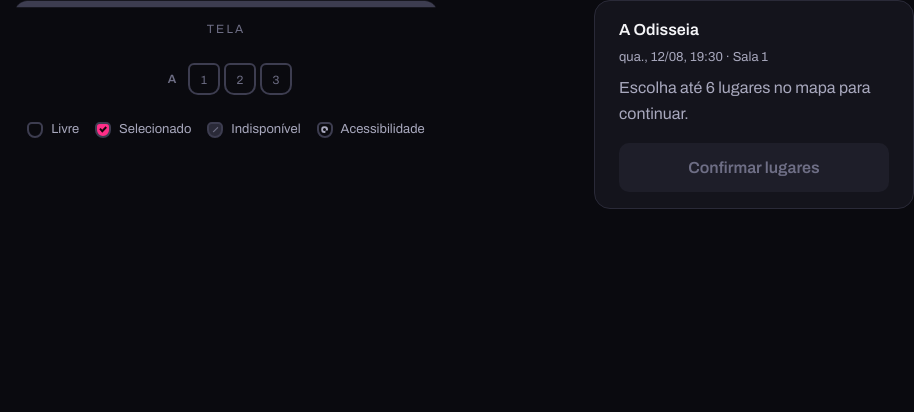
Scenario: seleção › mostra quantidade e total da seleção
Click the button named "Fileira": (204, 79) top-left (188, 63), bottom-right (220, 95)
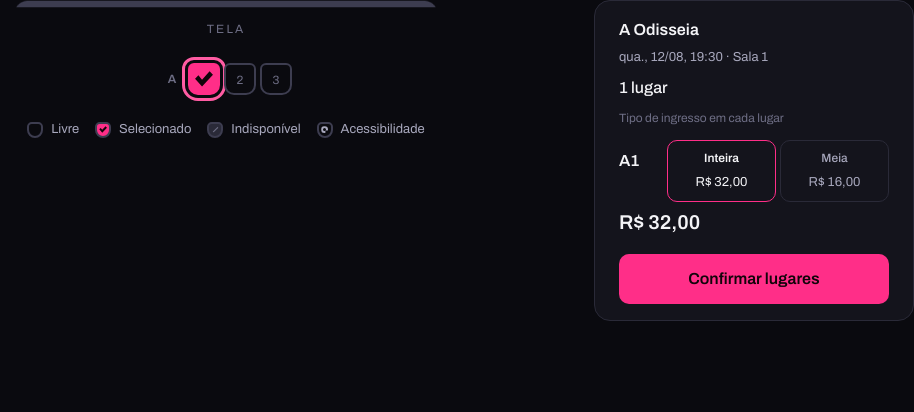
Result: the text "1 lugar" is shown at top-left (619, 79), bottom-right (668, 96)
Click the button named "Fileira": (240, 79) top-left (224, 63), bottom-right (256, 95)
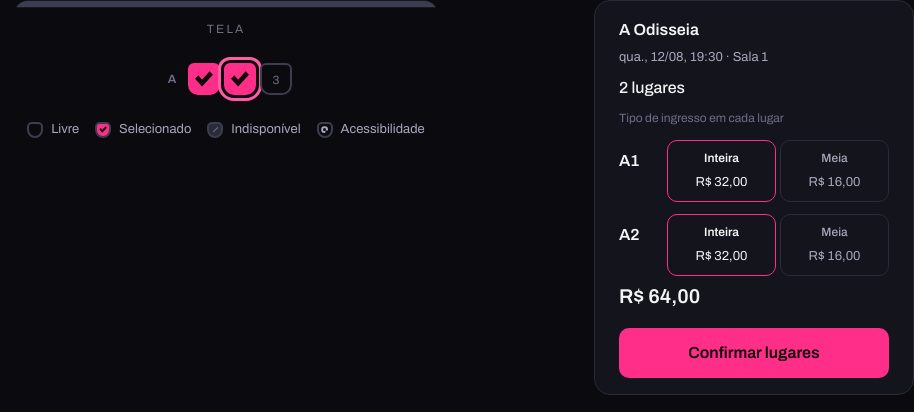
Result: the text "2 lugares" is shown at top-left (619, 79), bottom-right (685, 96)
Result: the text "R$ 64,00" is shown at top-left (619, 285), bottom-right (700, 307)
